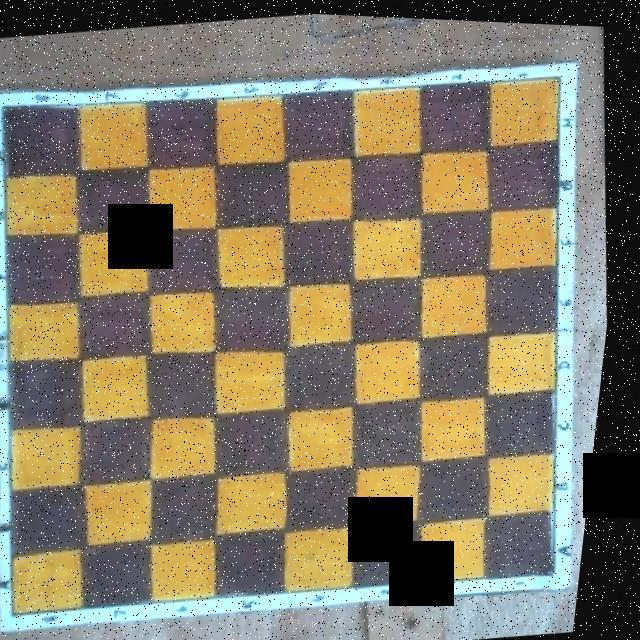chess-table-corners: (0, 101, 13, 112), (558, 562, 570, 572), (551, 68, 565, 76), (22, 608, 32, 618)
